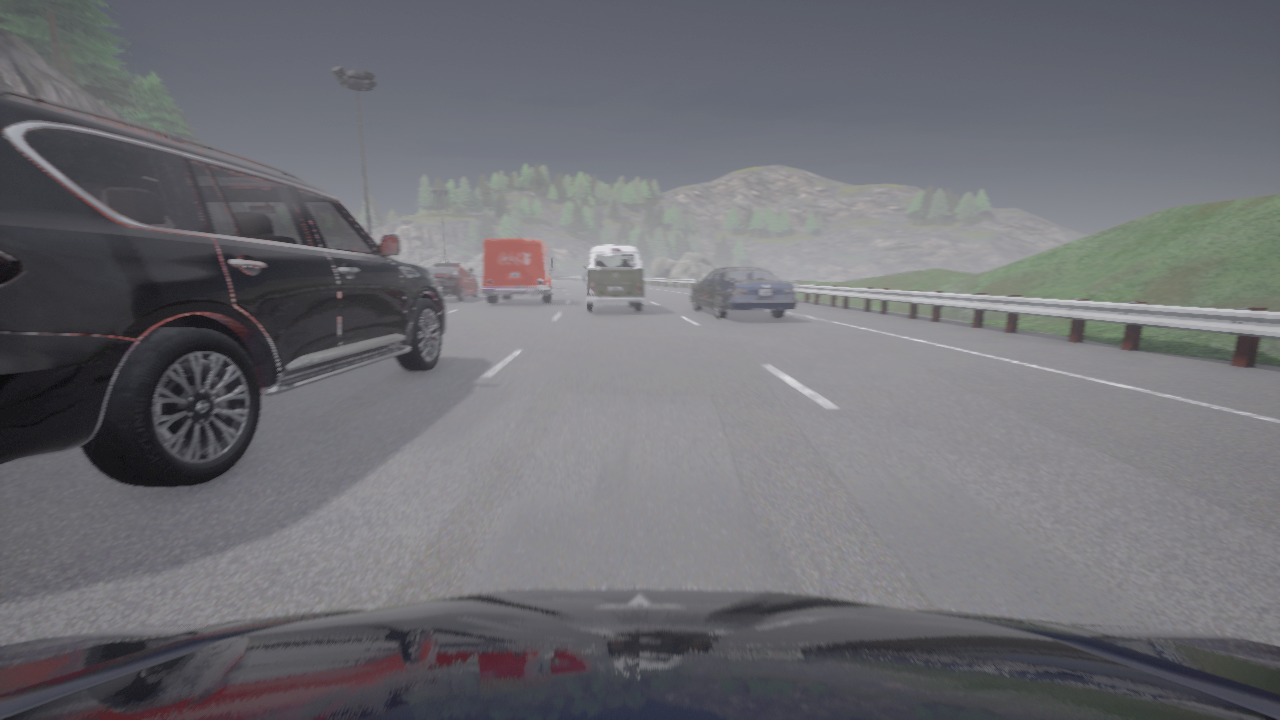cyclist: (0, 588, 1279, 719), (690, 266, 797, 318), (482, 239, 554, 303), (582, 245, 644, 312), (427, 263, 477, 301), (581, 271, 586, 283), (549, 269, 551, 276)
